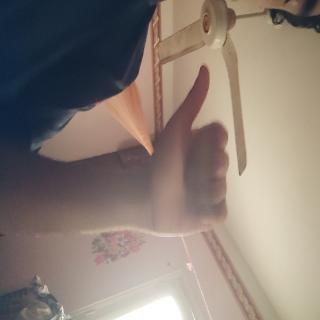DAD: (46, 117, 178, 241)
